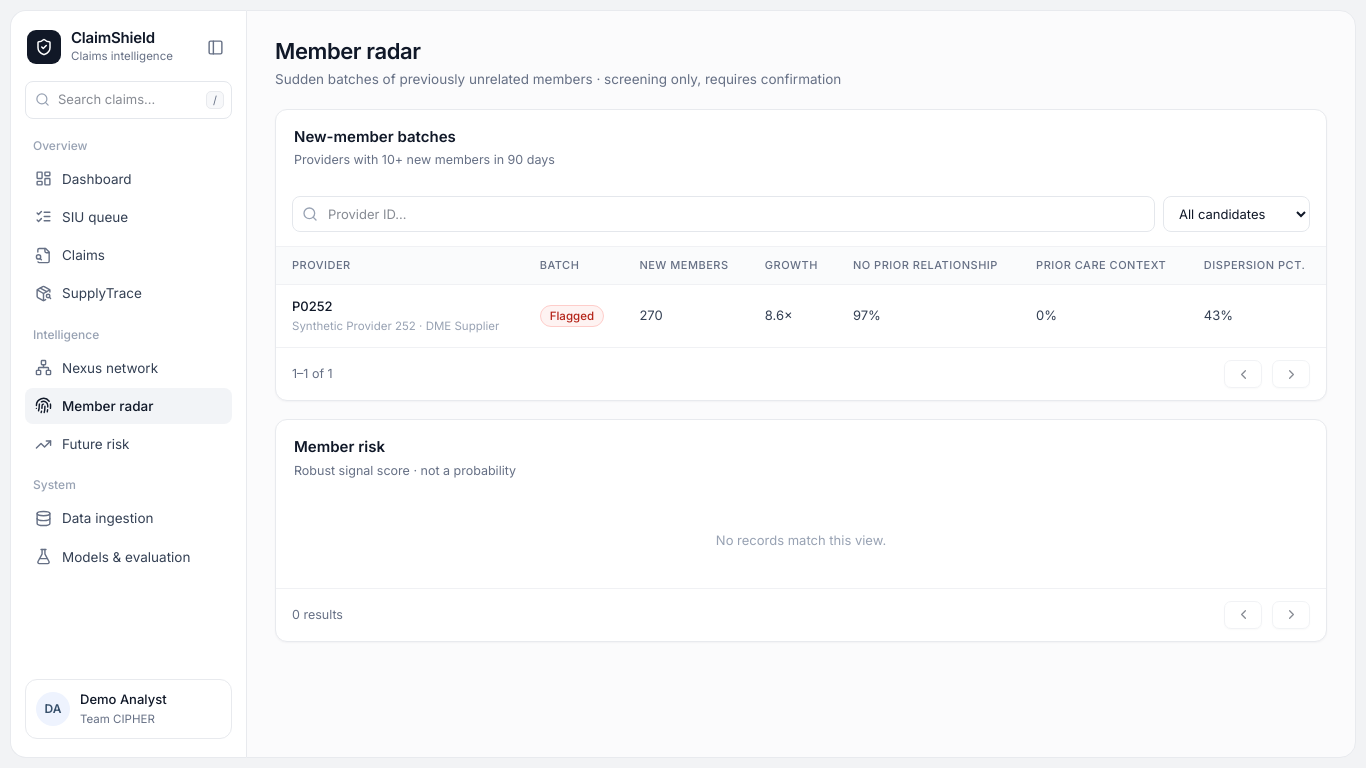
Investigation extensions › lists Member Radar batches from the API and opens a batch
Step 1. Click the text "P0252" → (312, 306), box top-left (292, 298), bottom-right (333, 314)
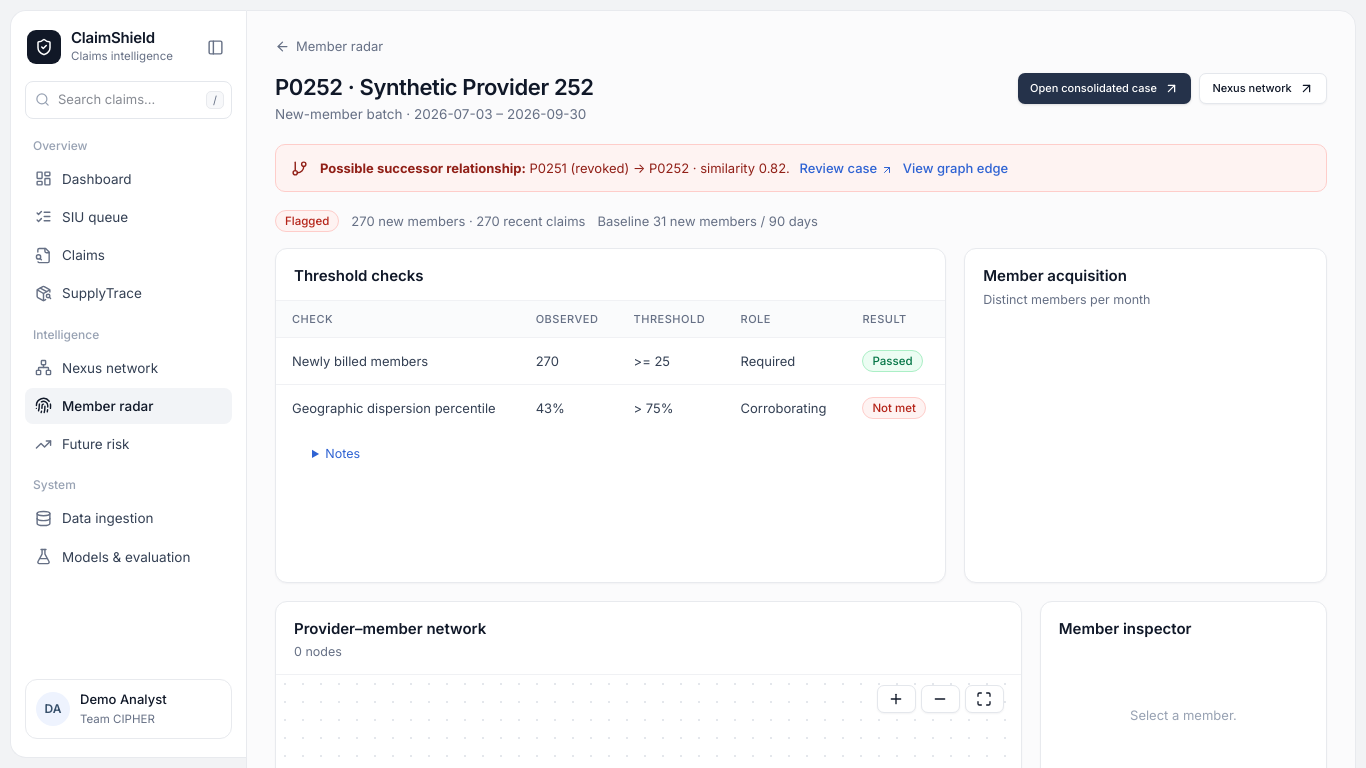
Check: the heading "Threshold checks" is shown, box top-left (294, 265), bottom-right (424, 288)
Check: the text "Corroborating" is shown, box top-left (725, 385), bottom-right (846, 431)
